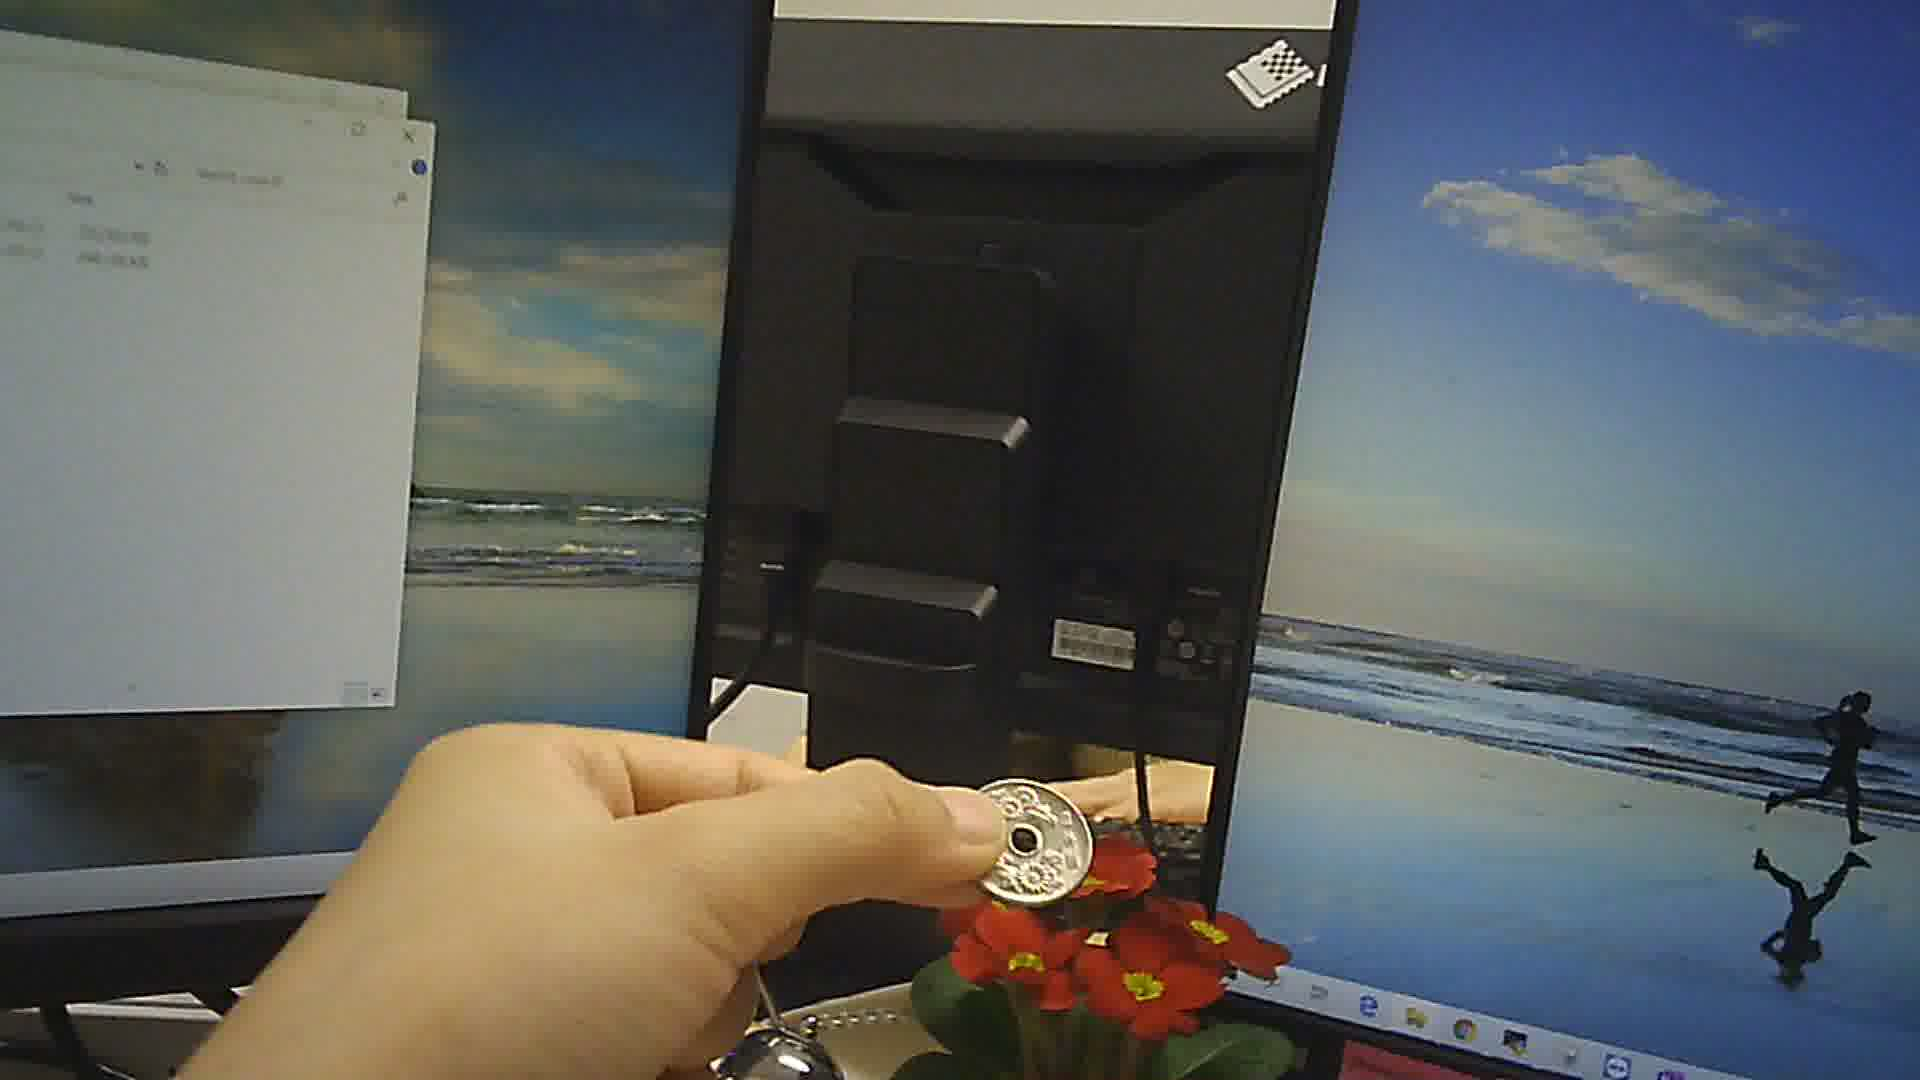50 Yen: (959, 774, 1092, 913)
